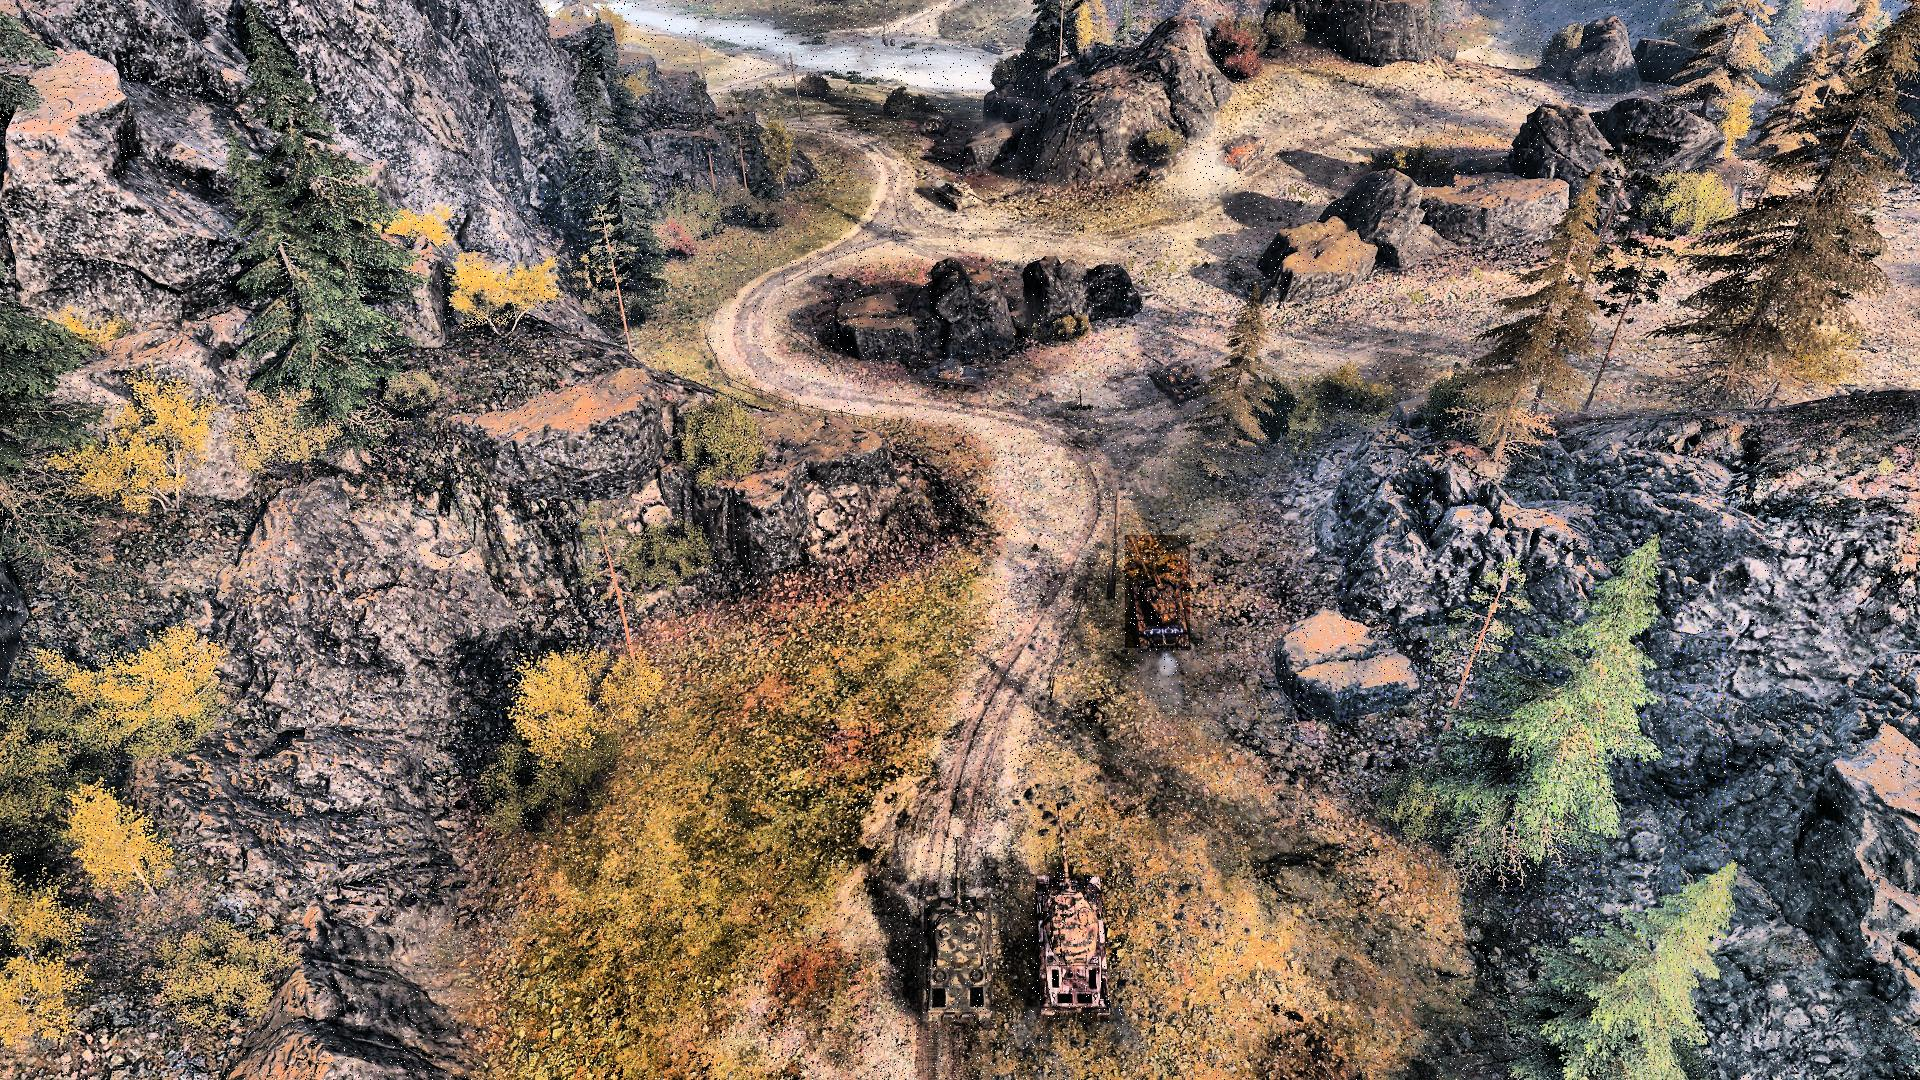military-vehicle: (1035, 803, 1108, 1022), (916, 839, 994, 1023), (1125, 535, 1189, 649)
